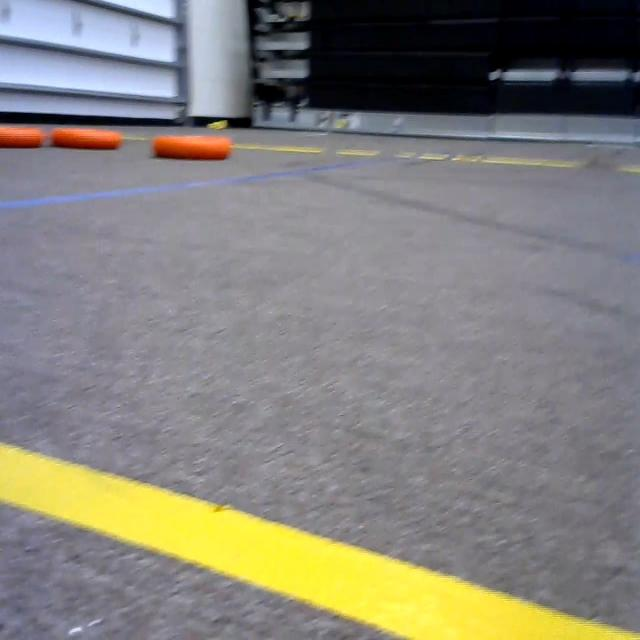note: (150, 128, 234, 168), (52, 117, 125, 153), (0, 119, 44, 158)
